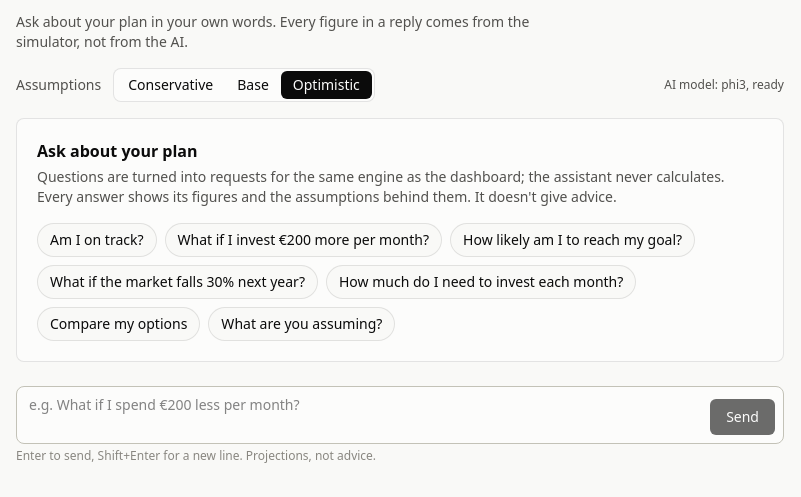
Test: Ask page › labels refusals by their reason and shows no figures
The image size is (801, 497).
Type "Should I buy an ETF?" into the text box with id "chat-input" at (364, 415), box [25,395,702,435]
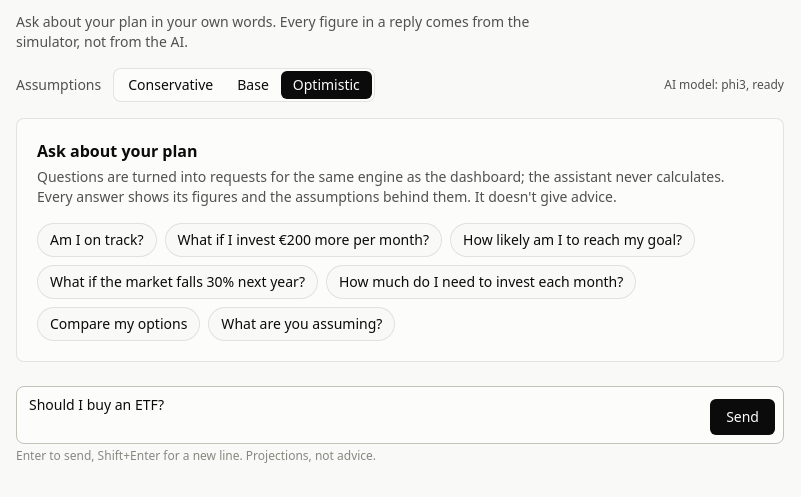
Submit the form, box [16,378,784,480]
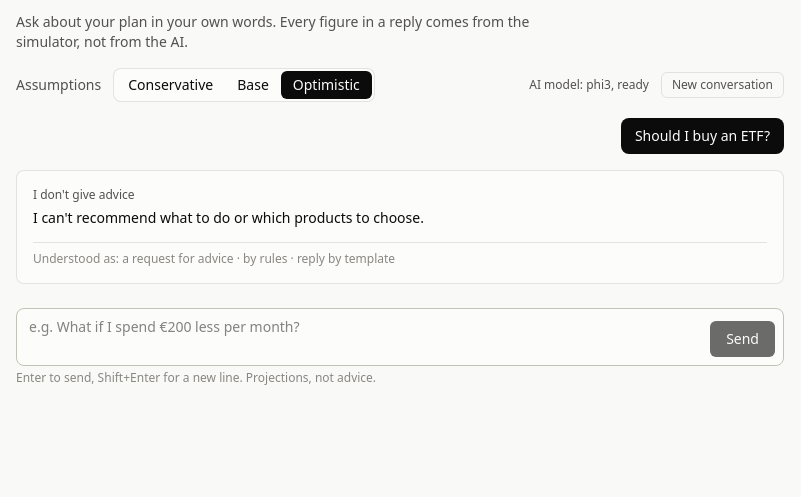
Now the element named "Reply: declined" shows "I don't give advice", box [33,186,135,203]
Now the button "What if I invest €200 more per month?" no longer shows "€"
